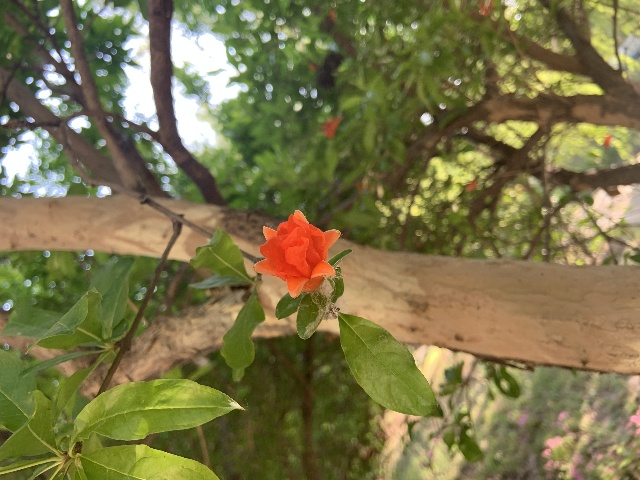flower: (253, 209, 341, 297)
